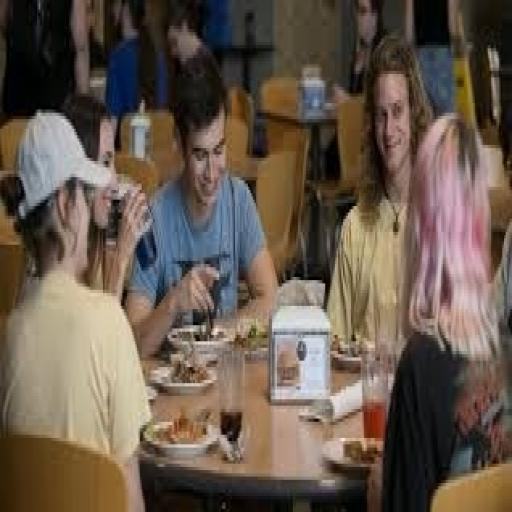eating: (0, 103, 153, 506), (124, 48, 280, 358)
